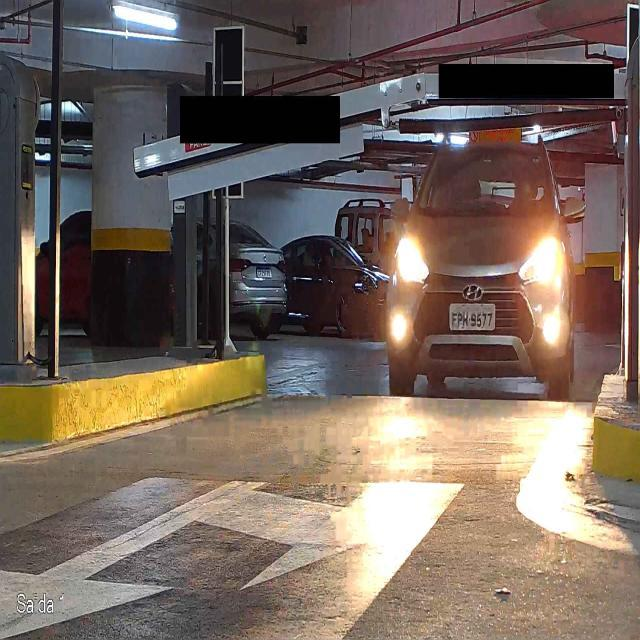old_plate: (447, 302, 497, 332)
